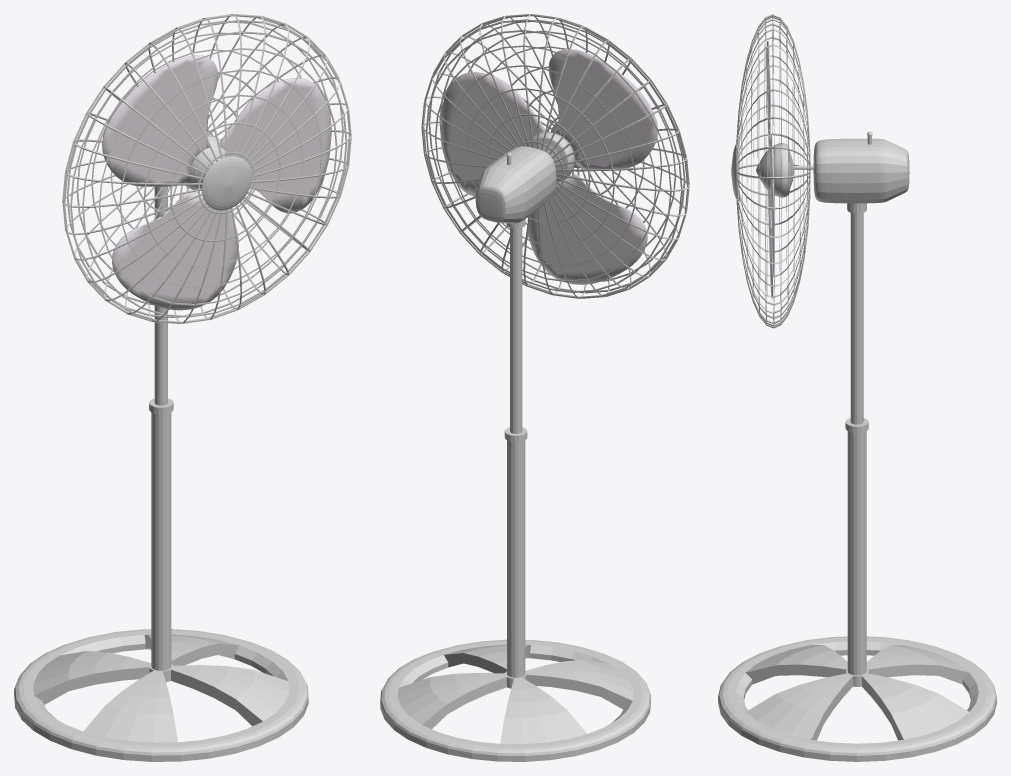
The model's file is Ventilador de pie.fbx.
3 views of the same model, side by side, from view 1: azimuth 30°, elevation 25°; view 2: azimuth 150°, elevation 25°; view 3: azimuth 270°, elevation 25° (orthographic). The views are drawn at different scales.
Visible parts, largest first — view 1: Motor, Plane, Circle.003, Cylinder.003; view 2: Motor, Plane, Circle.003, Cylinder.003; view 3: Circle.003, Motor, Cylinder.003, Plane.
Part boxes in pixels (x1,y1,x2,y2): Motor: (62,14,351,323); Plane: (102,55,330,310); Circle.003: (14,629,308,761); Cylinder.003: (149,186,173,670); Motor: (421,14,689,298); Plane: (441,49,657,284); Circle.003: (380,639,650,761); Cylinder.003: (504,219,527,677); Circle.003: (718,636,996,761); Motor: (731,14,909,328); Cylinder.003: (845,203,868,675); Plane: (766,41,773,297).
Size of the model in its own units: 65.25 by 154 by 57.82.
